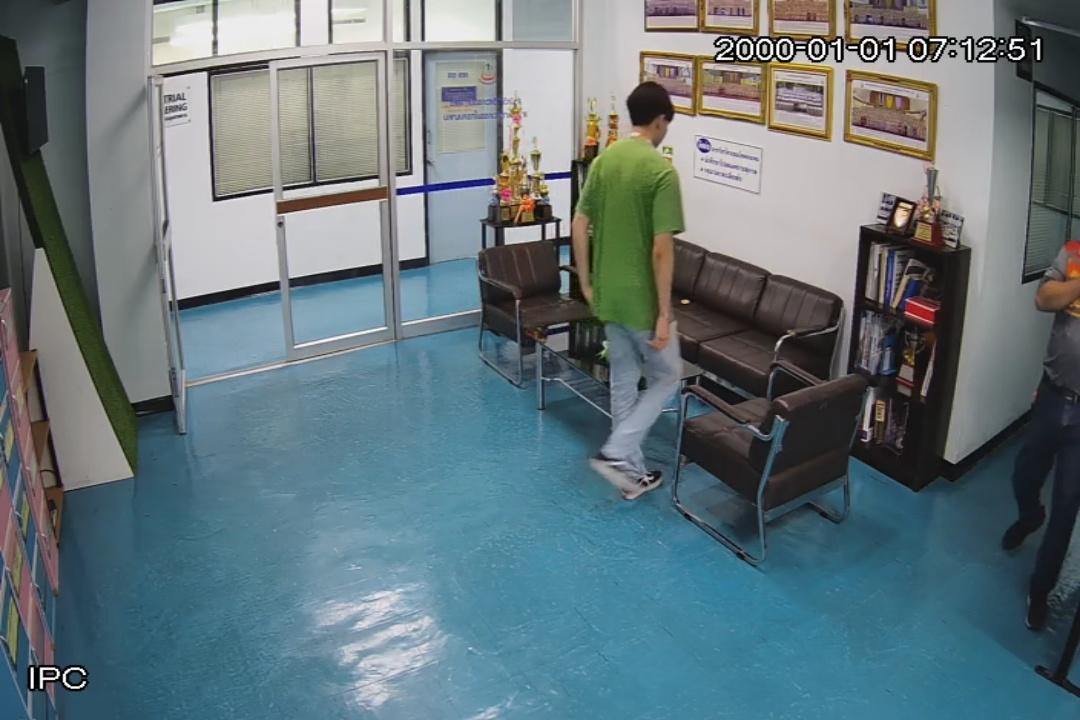normal: (570, 81, 686, 504)
